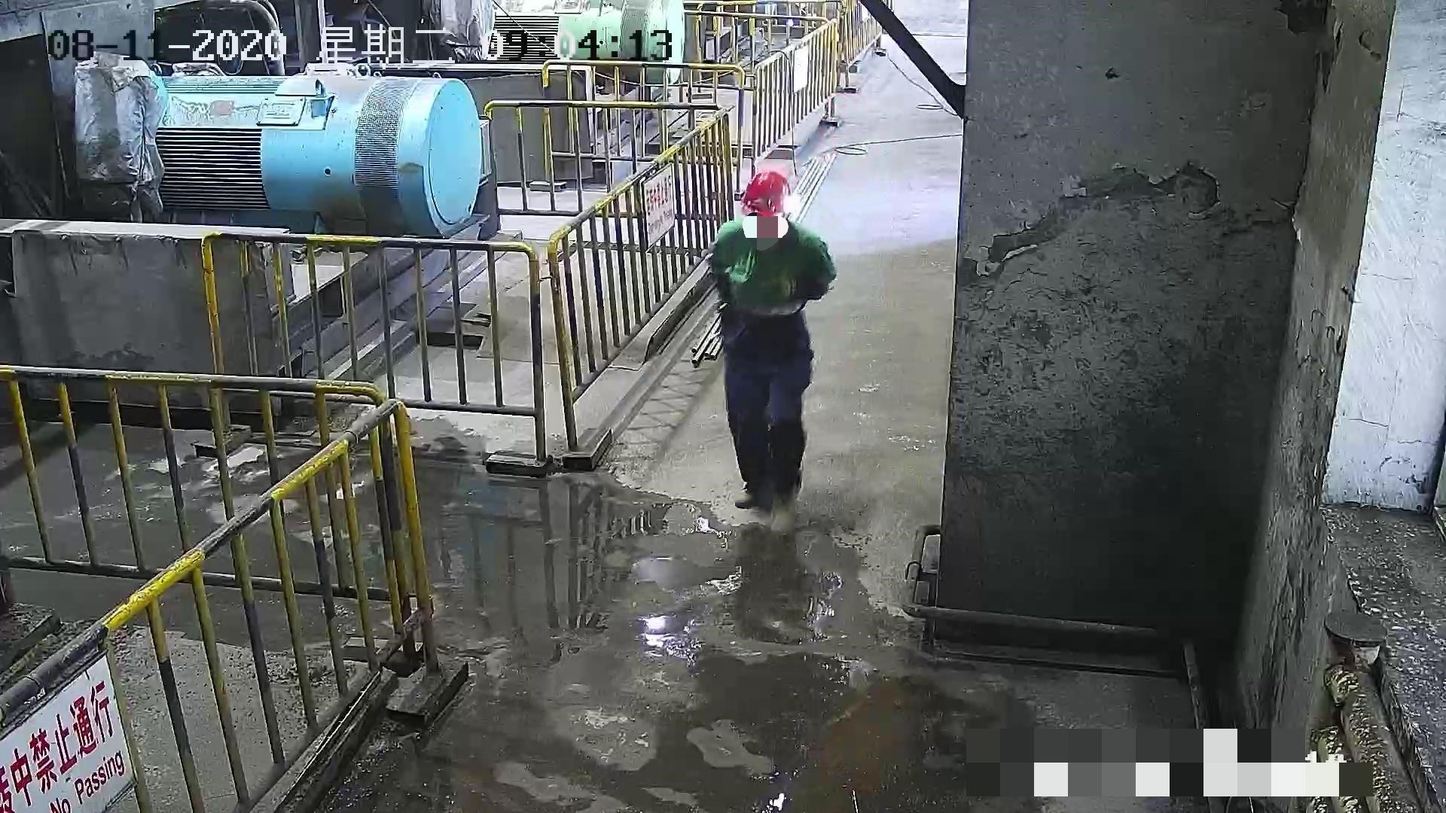hat: (737, 169, 795, 246)
person: (700, 168, 837, 544)
